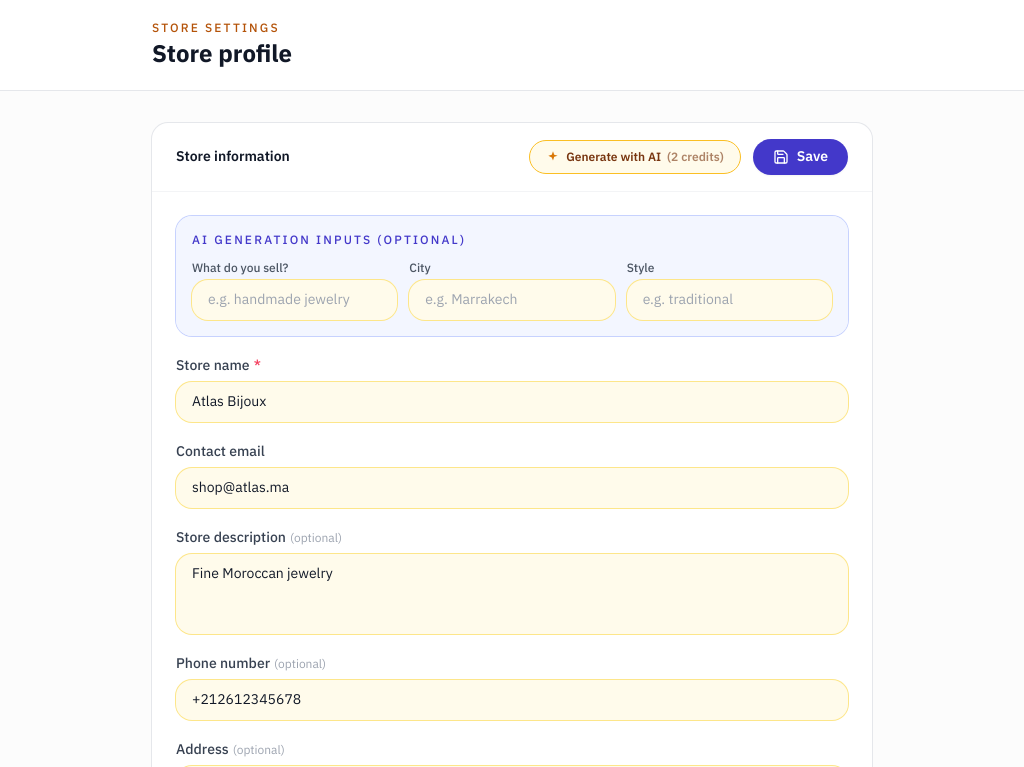
Test: StoreSettingsPage — real load + save › shows a success indicator after a successful save
Check: the field showing "Atlas Bijoux" is shown, box [176,382,848,422]
Click the button "Save". click: coordinates (800, 157)
box: [753,139,848,175]
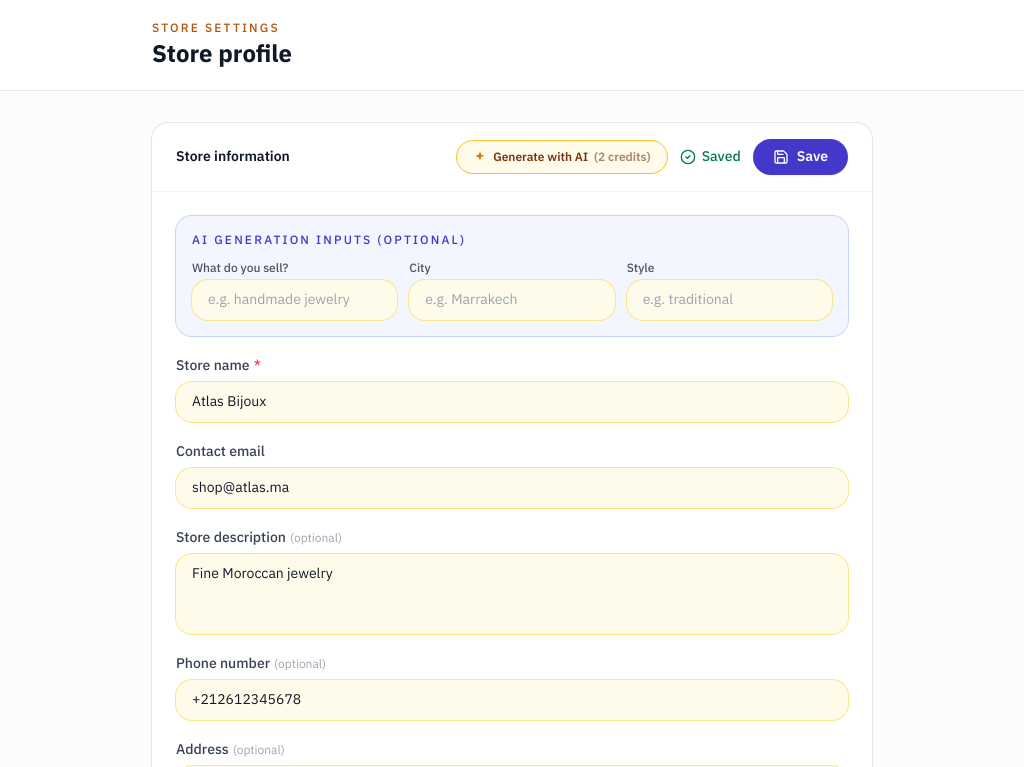
Check: the text "Saved" is shown, box [680,147,741,167]
